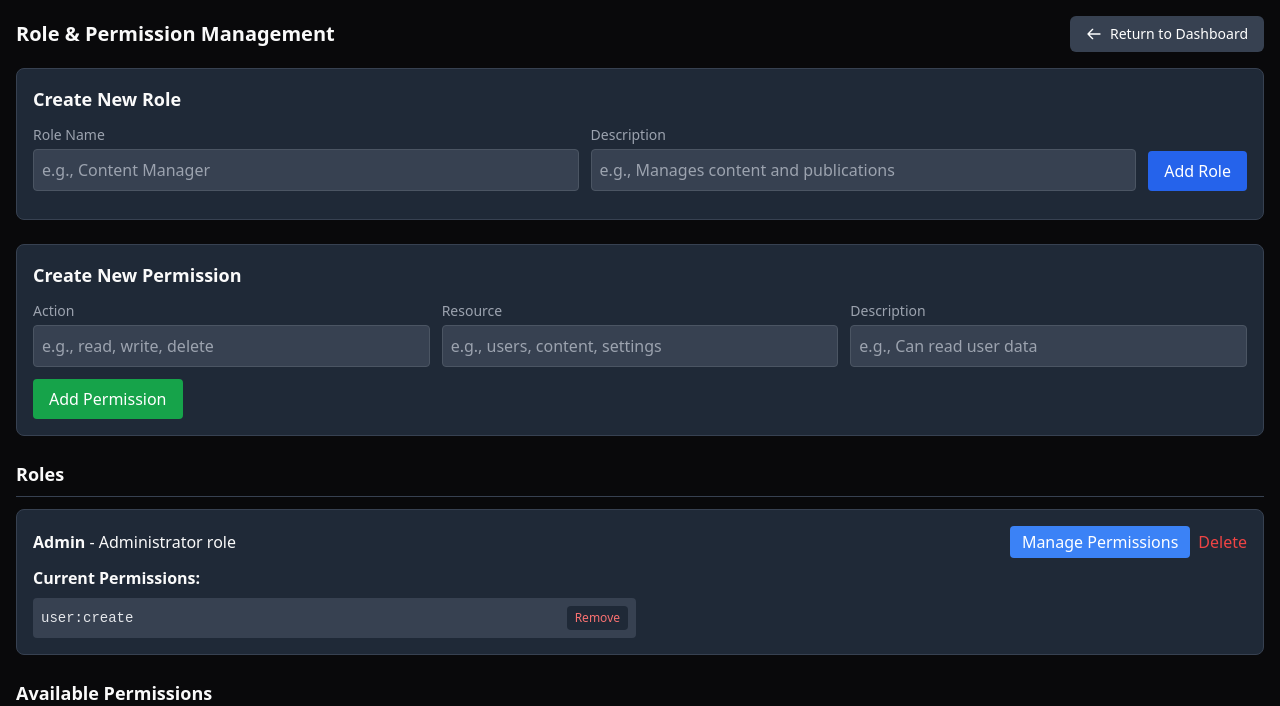
it: RoleManagement › creates a new role
Expected: the text "Admin" is shown, [33,531,85,553]
In the field with test id "role-name-input": (306, 170) [33,149,579,191], type "Editor"
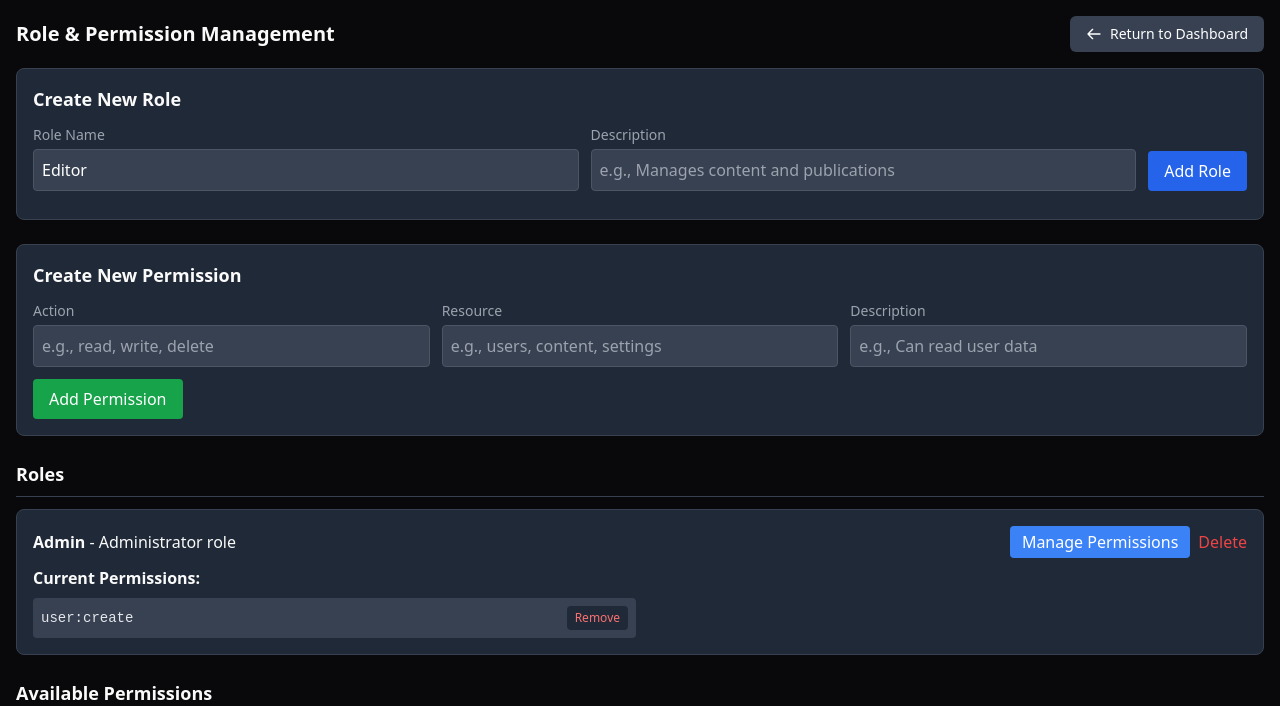
In the field with test id "role-description-input": (863, 170) [591,149,1136,191], type "Editor role"
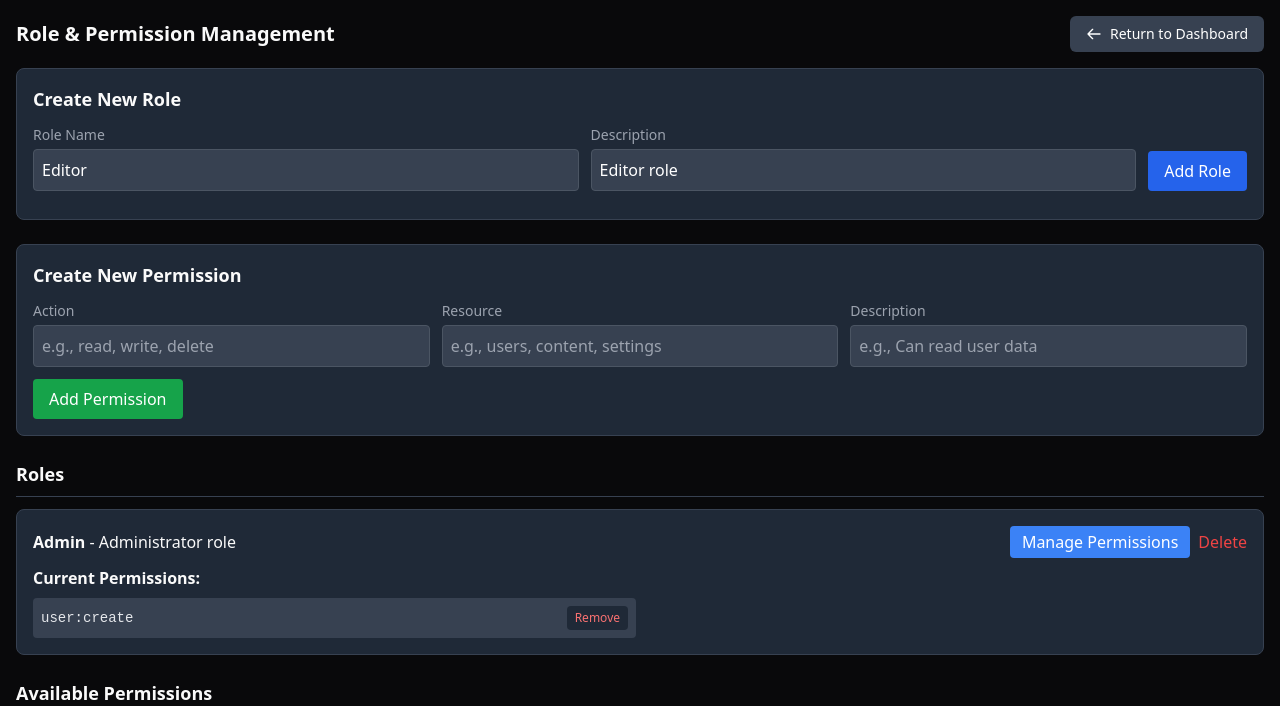
Click the button with test id "add-role-button": (1198, 171) [1148,151,1247,191]
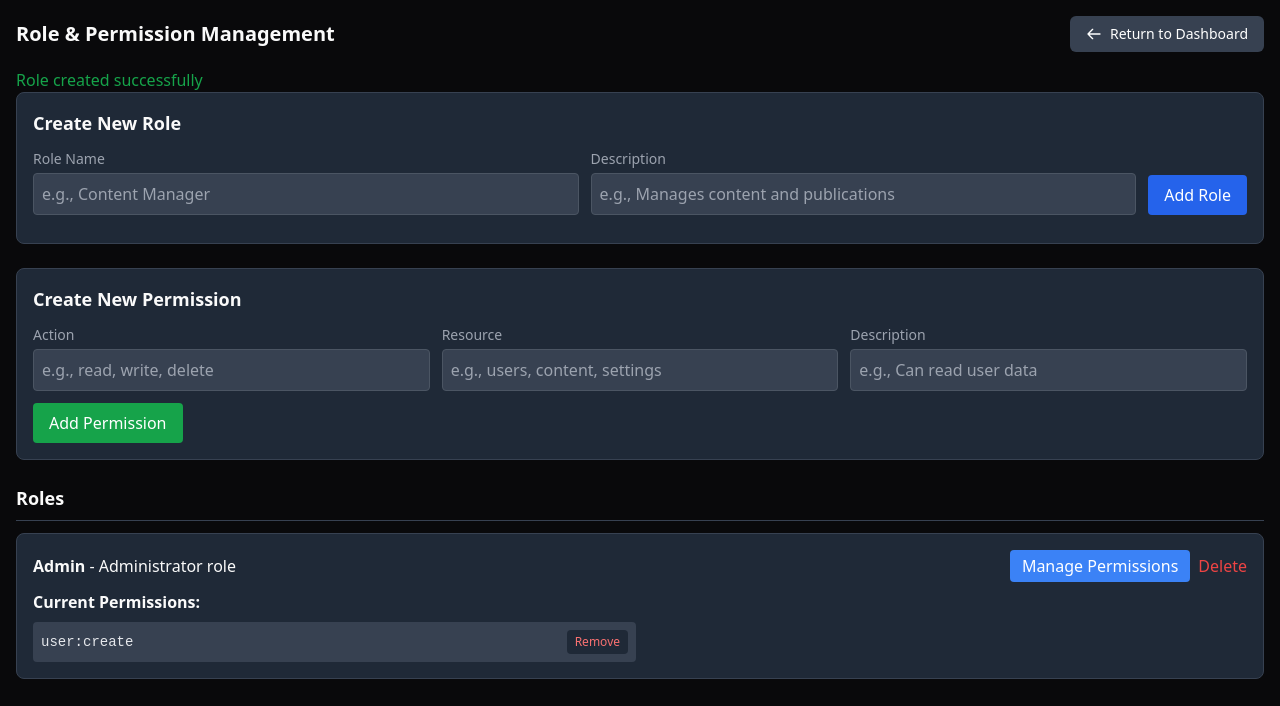
Expected: the text "Role created successfully" is shown, [16,69,203,91]
